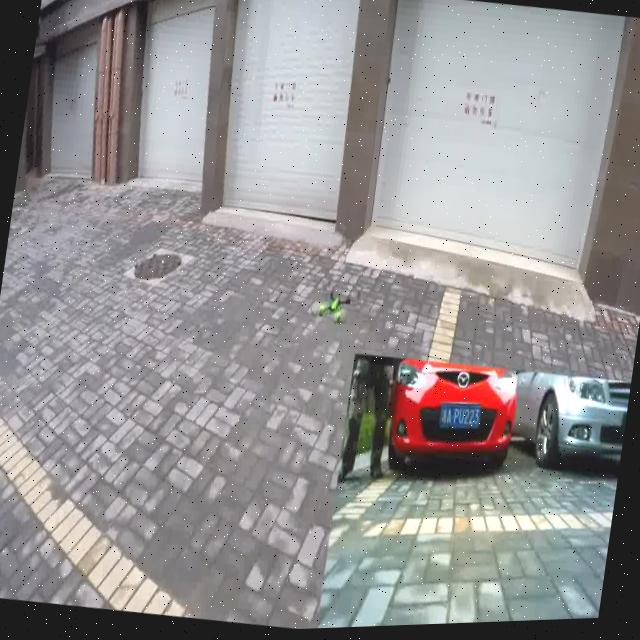drone: (310, 279, 364, 336)
